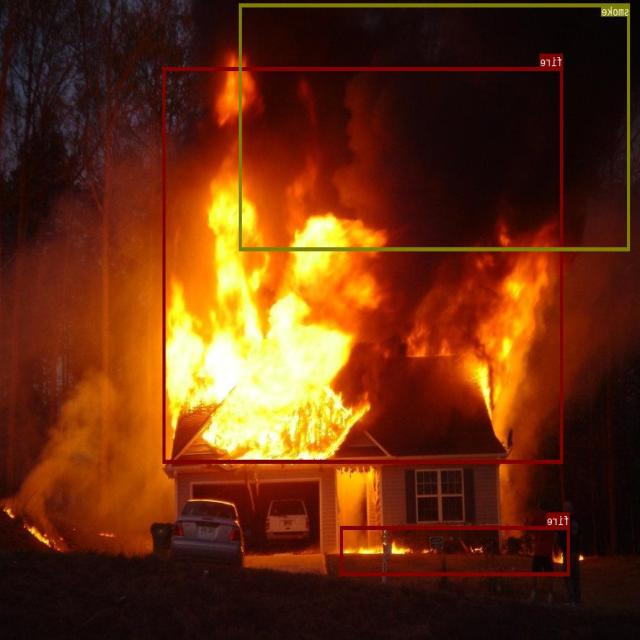fire: (164, 67, 563, 463), (341, 525, 570, 575)
smoke: (240, 3, 630, 250)
